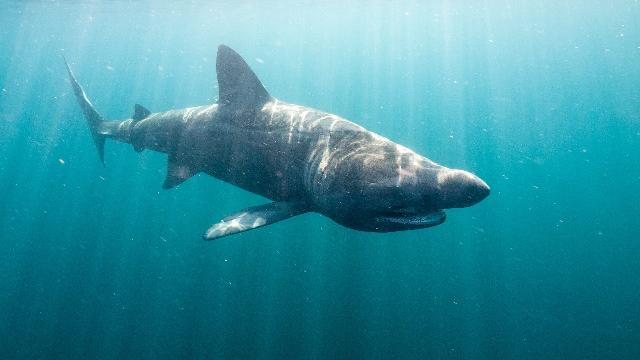Mulut: (366, 194, 458, 240)
Sirip Anal: (125, 94, 154, 164)
Sirip Dada: (194, 194, 306, 250)
Sirip Ekor: (56, 47, 116, 181)
Sirip Perut: (160, 154, 200, 200)
Sirip Punggung: (212, 39, 276, 114)
